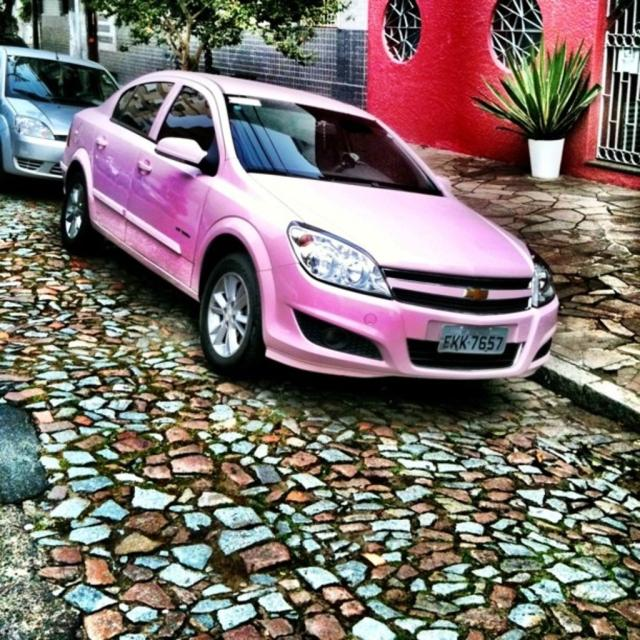car: (57, 65, 544, 393)
